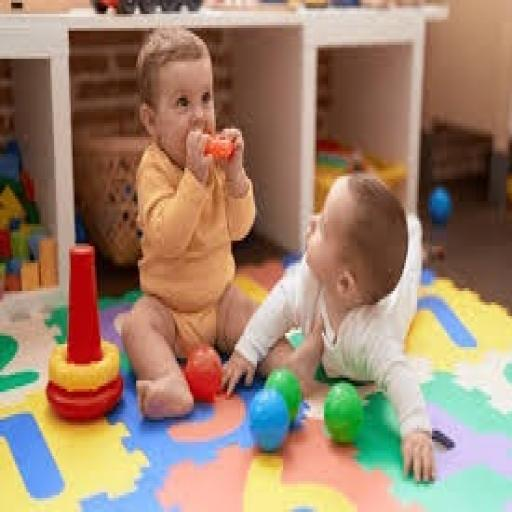baby: (224, 174, 433, 481), (123, 28, 256, 419)
